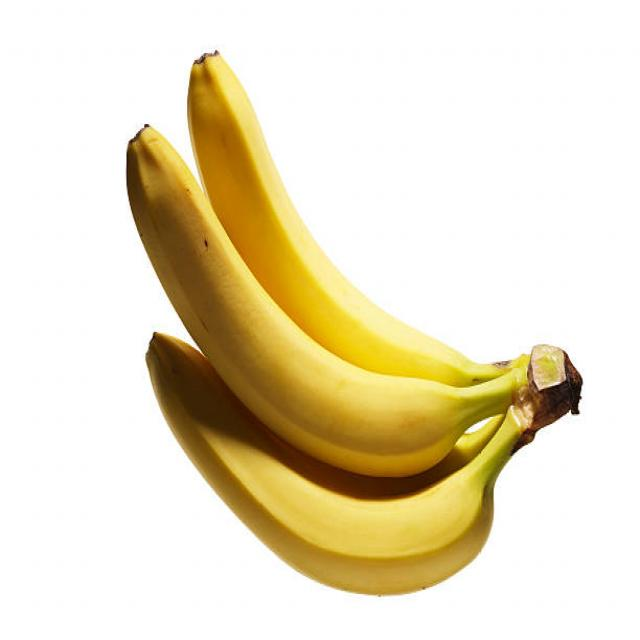Banana: (118, 26, 532, 598)
